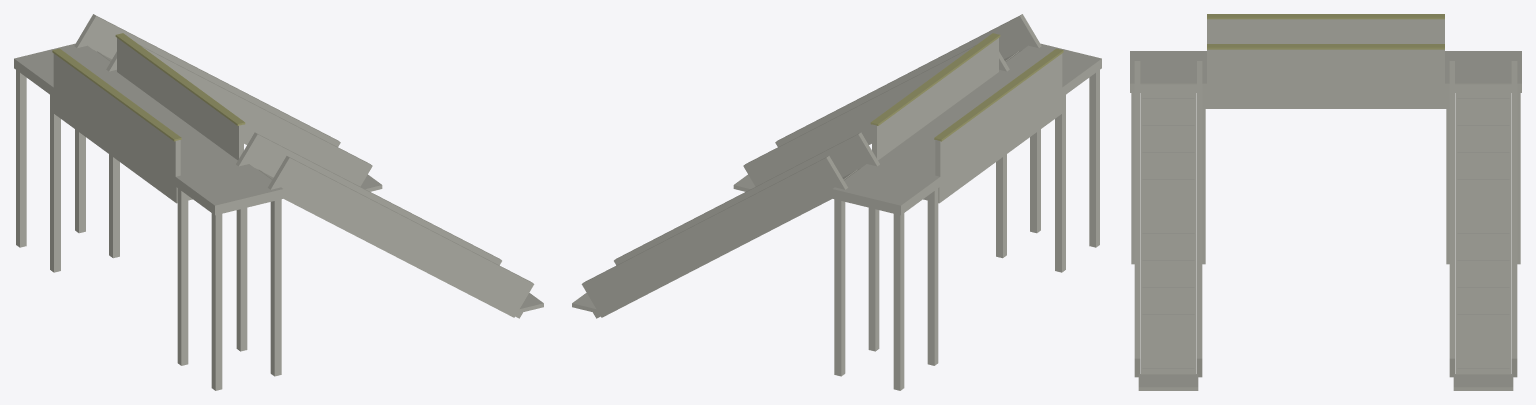
File: SM_KitPaso_v2_LOD0.fbx
The picture shows the model from 3 angles, left to right: view 1: azimuth 30°, elevation 25°; view 2: azimuth 150°, elevation 25°; view 3: azimuth 270°, elevation 25°; orthographic projection. The views are drawn at different scales.
Parts seen in each view (by area): view 1: SM_bloques.kit_paso_v2_LOD0; view 2: SM_bloques.kit_paso_v2_LOD0; view 3: SM_bloques.kit_paso_v2_LOD0.
Boxes of the visible parts, left/top/right/bottom form: SM_bloques.kit_paso_v2_LOD0: left=14, top=14, right=543, bottom=390; SM_bloques.kit_paso_v2_LOD0: left=572, top=14, right=1101, bottom=390; SM_bloques.kit_paso_v2_LOD0: left=1130, top=14, right=1521, bottom=390.
Bounding box in the file's own units: 10.76 × 7.07 × 11.2.
